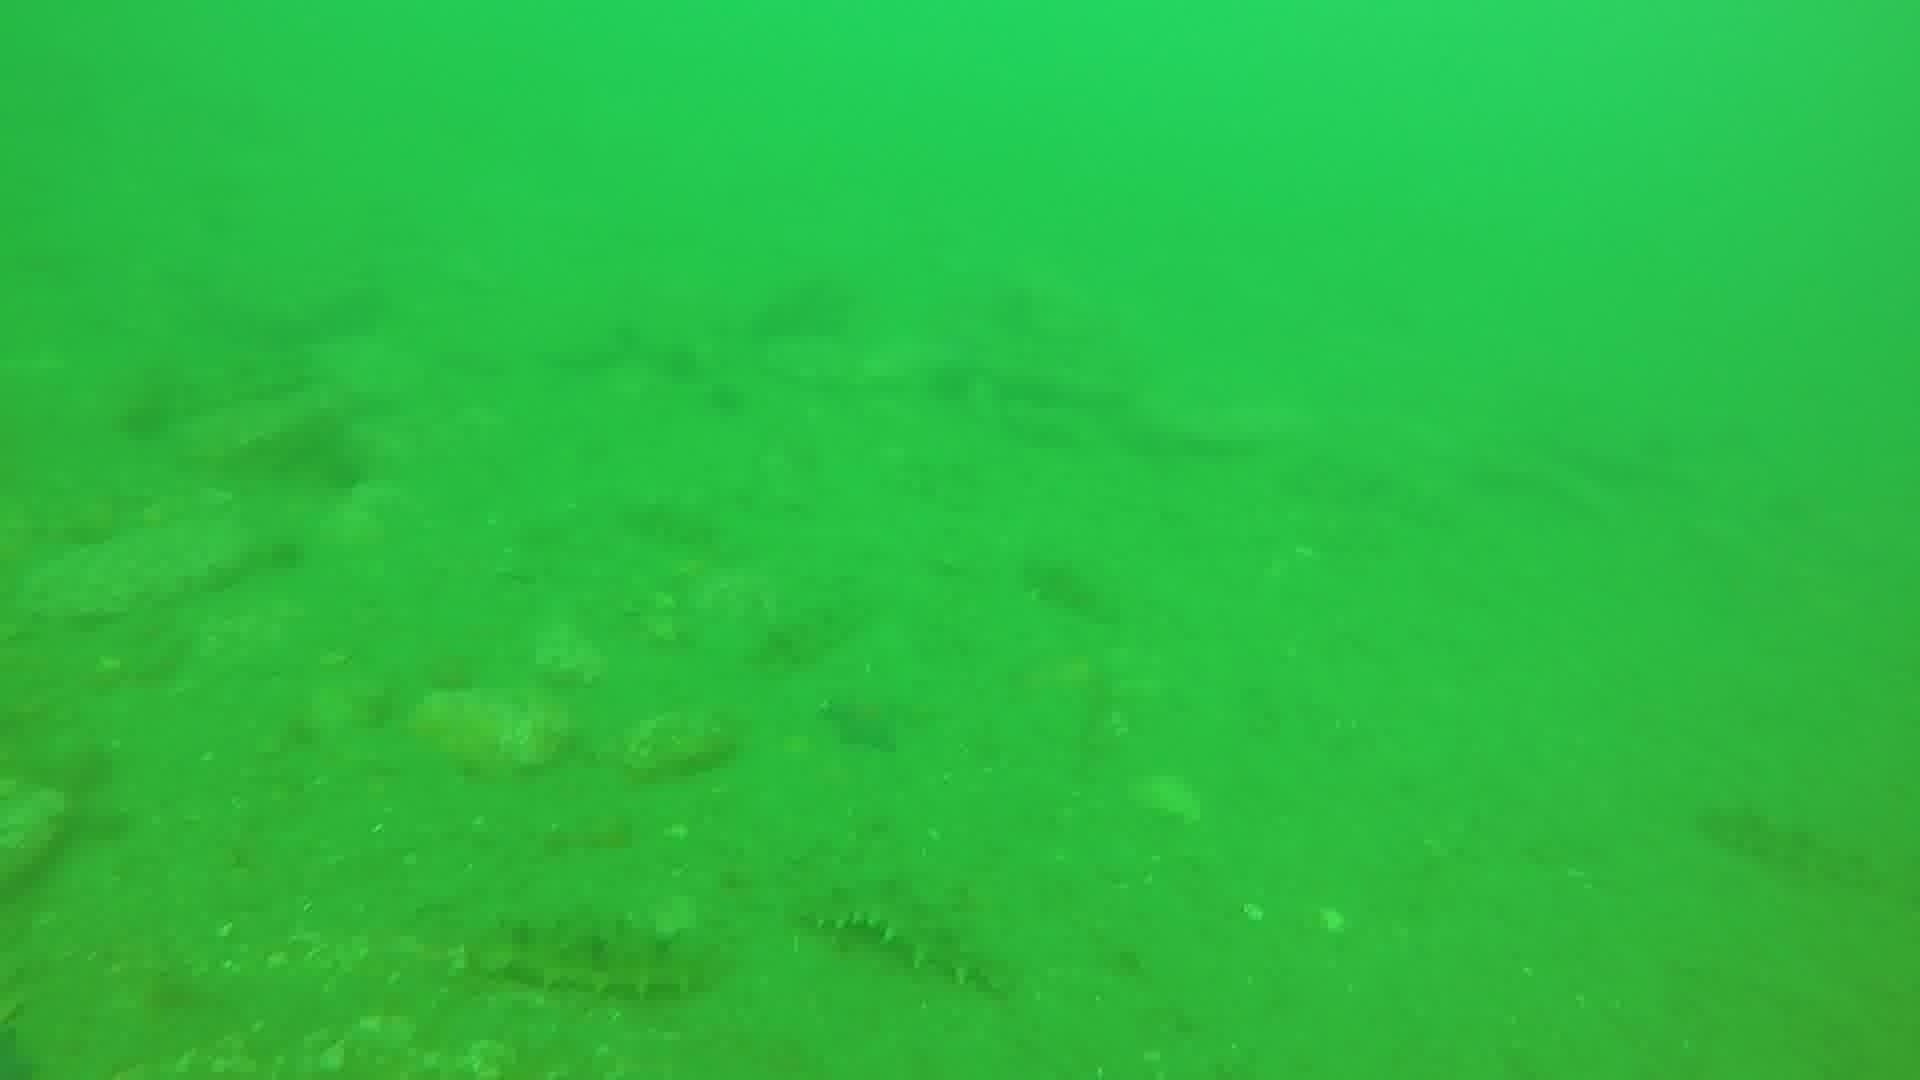holothurian: (796, 866, 1021, 996), (473, 905, 732, 1005), (1695, 790, 1886, 894), (1017, 549, 1117, 626), (618, 489, 731, 558)
starfish: (818, 684, 919, 756)
